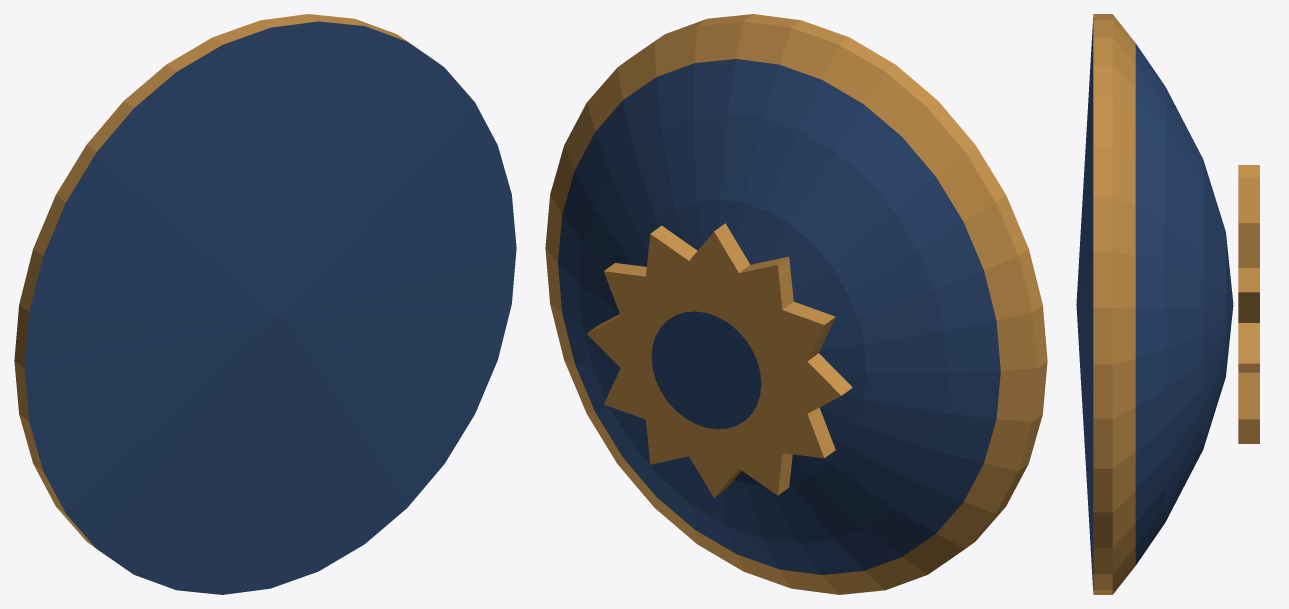
The model's file is rama-gear.glb.
The picture shows the model from 3 angles, left to right: view 1: azimuth 30°, elevation 25°; view 2: azimuth 150°, elevation 25°; view 3: azimuth 270°, elevation 25°; orthographic projection. The views are drawn at different scales.
Visible parts, largest first — view 1: RamaSolarGuard; view 2: RamaSolarGuard; view 3: RamaSolarGuard.
Part boxes in pixels (x1=…): RamaSolarGuard: x1=14, y1=14, x2=516, y2=594; RamaSolarGuard: x1=545, y1=14, x2=1047, y2=594; RamaSolarGuard: x1=1076, y1=14, x2=1259, y2=594.
Bounding box in the file's own units: 0.224 × 0.244 × 0.082.
